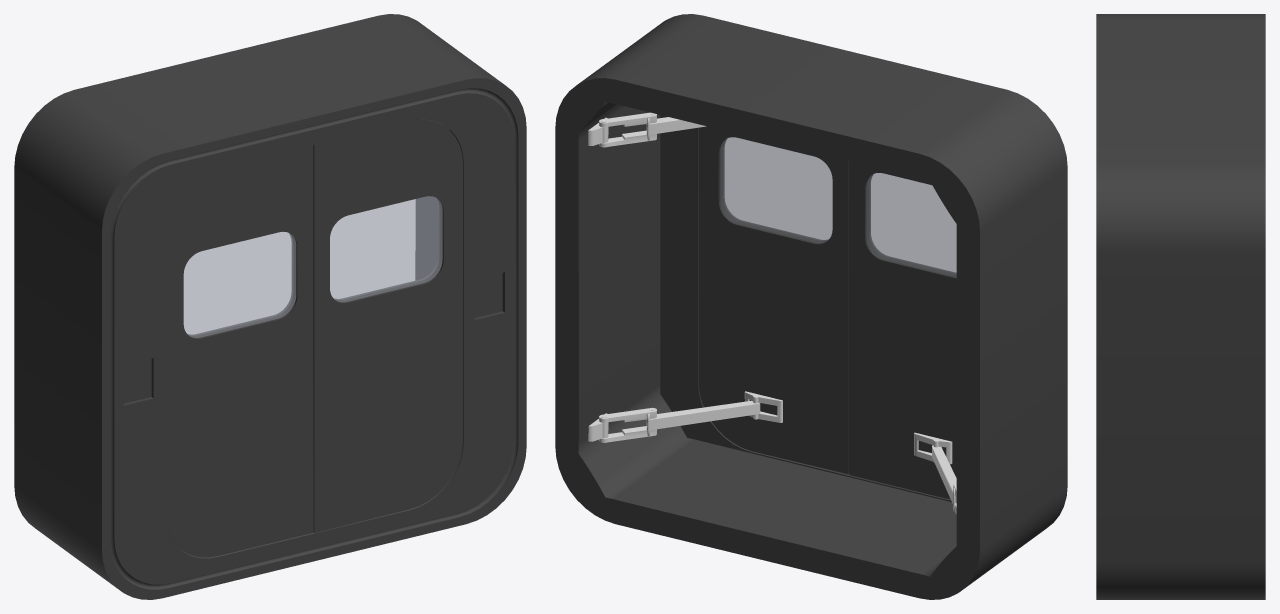
The model's file is Door.gltf.
3 views of the same model, side by side, from view 1: azimuth 30°, elevation 25°; view 2: azimuth 150°, elevation 25°; view 3: azimuth 270°, elevation 25° (orthographic). The views are drawn at different scales.
Visible parts, largest first — view 1: door-frame, door-right, door-left; view 2: door-frame, door-right, door-left, hinge-right-2-arm, hinge-right-1-arm, hinge-left-2-arm; view 3: door-frame.
Boxes of the visible parts, x1=… form: door-frame: x1=14, y1=14, x2=526, y2=599; door-right: x1=313, y1=119, x2=462, y2=532; door-left: x1=164, y1=145, x2=312, y2=557; door-frame: x1=555, y1=14, x2=1067, y2=599; door-right: x1=698, y1=126, x2=849, y2=473; door-left: x1=849, y1=161, x2=956, y2=499; hinge-right-2-arm: x1=646, y1=117, x2=760, y2=436; hinge-right-1-arm: x1=599, y1=112, x2=656, y2=442; hinge-left-2-arm: x1=932, y1=445, x2=956, y2=511; door-frame: x1=1096, y1=14, x2=1265, y2=599.
Size of the model in its own units: 2.8 by 2.8 by 1.
